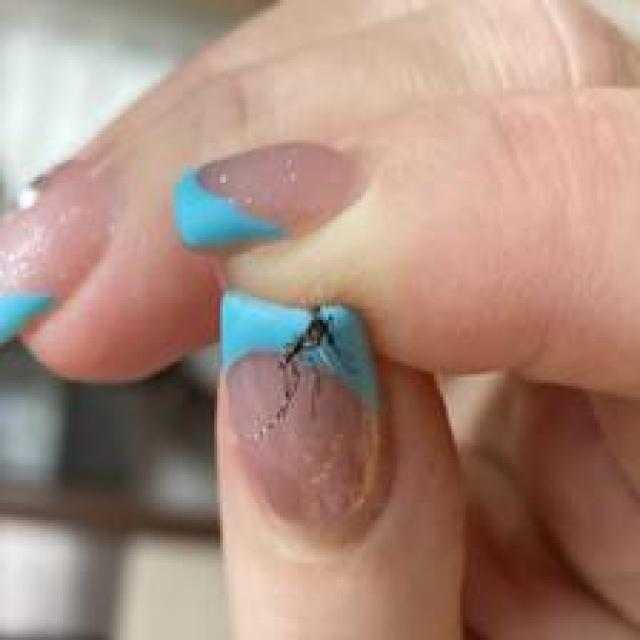Aedes albopictus: (248, 300, 383, 443)
